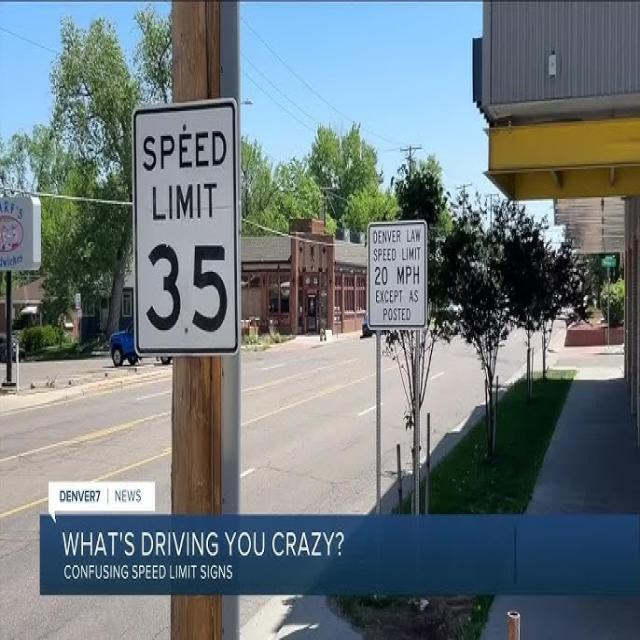Speed Limit Signs: (134, 102, 244, 365)
